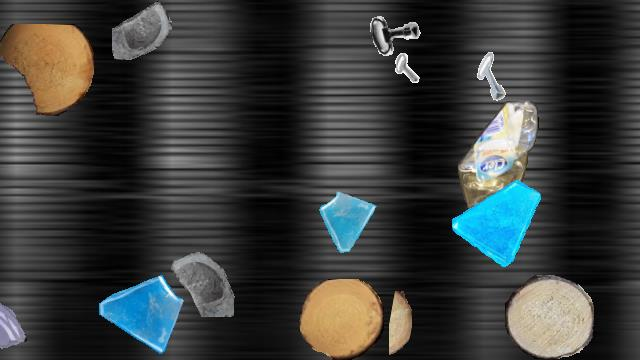glass: (95, 269, 185, 359), (452, 177, 542, 267), (161, 240, 237, 316), (316, 190, 380, 254), (112, 1, 172, 61), (0, 295, 28, 353)
metal: (363, 1, 425, 63), (469, 51, 519, 101), (371, 51, 419, 99)
plastic: (458, 101, 540, 247)
wood: (0, 24, 93, 116), (505, 275, 593, 359), (299, 279, 383, 359), (389, 291, 411, 359)
